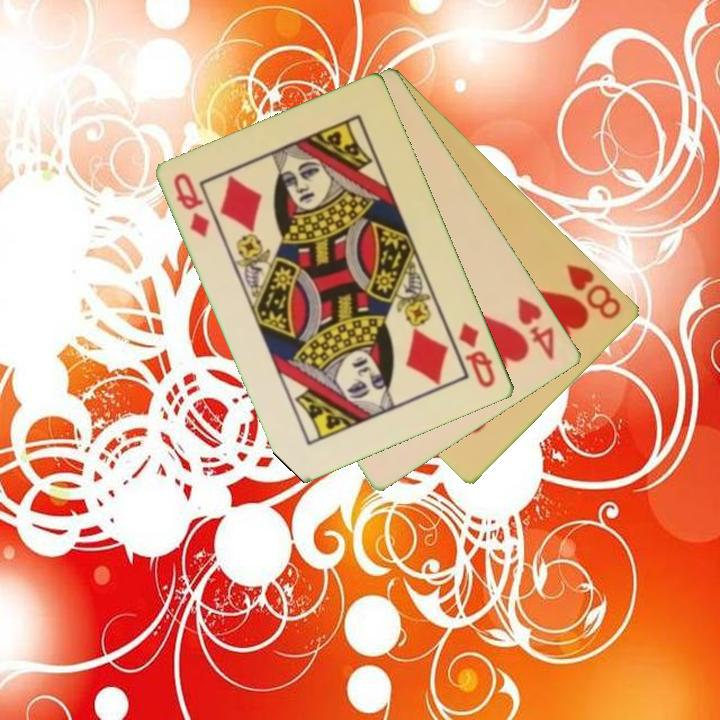4h: (514, 293, 558, 363)
8h: (563, 260, 625, 323)
Qd: (455, 319, 499, 391), (170, 169, 213, 240)
